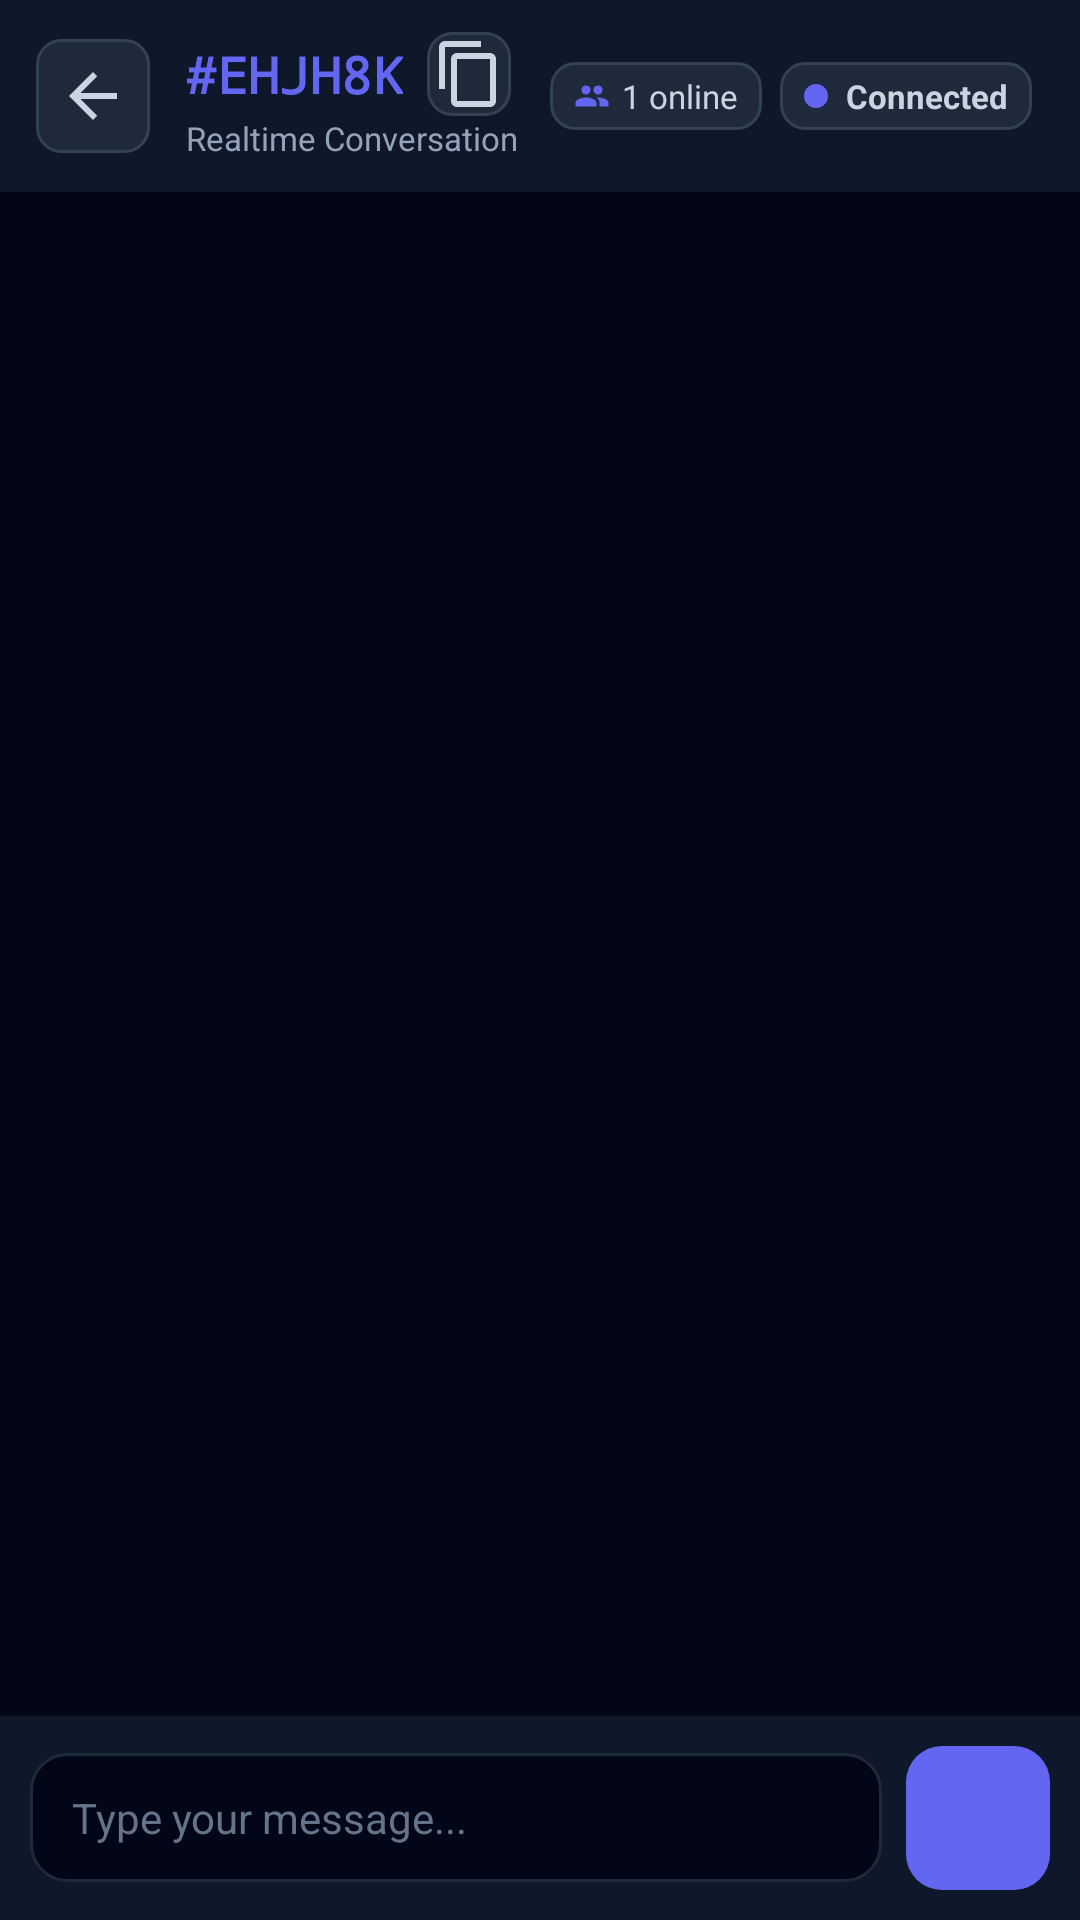

Named icons in this screenshot (1080 x 1920) and their centers, (x,y):
Back: (93,96)
Copy Code: (469,74)
users: (592,96)
